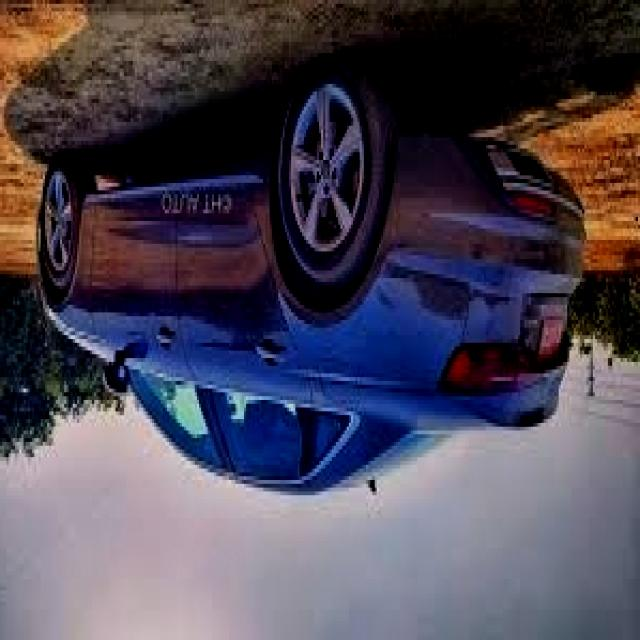blue: (38, 61, 572, 487)
